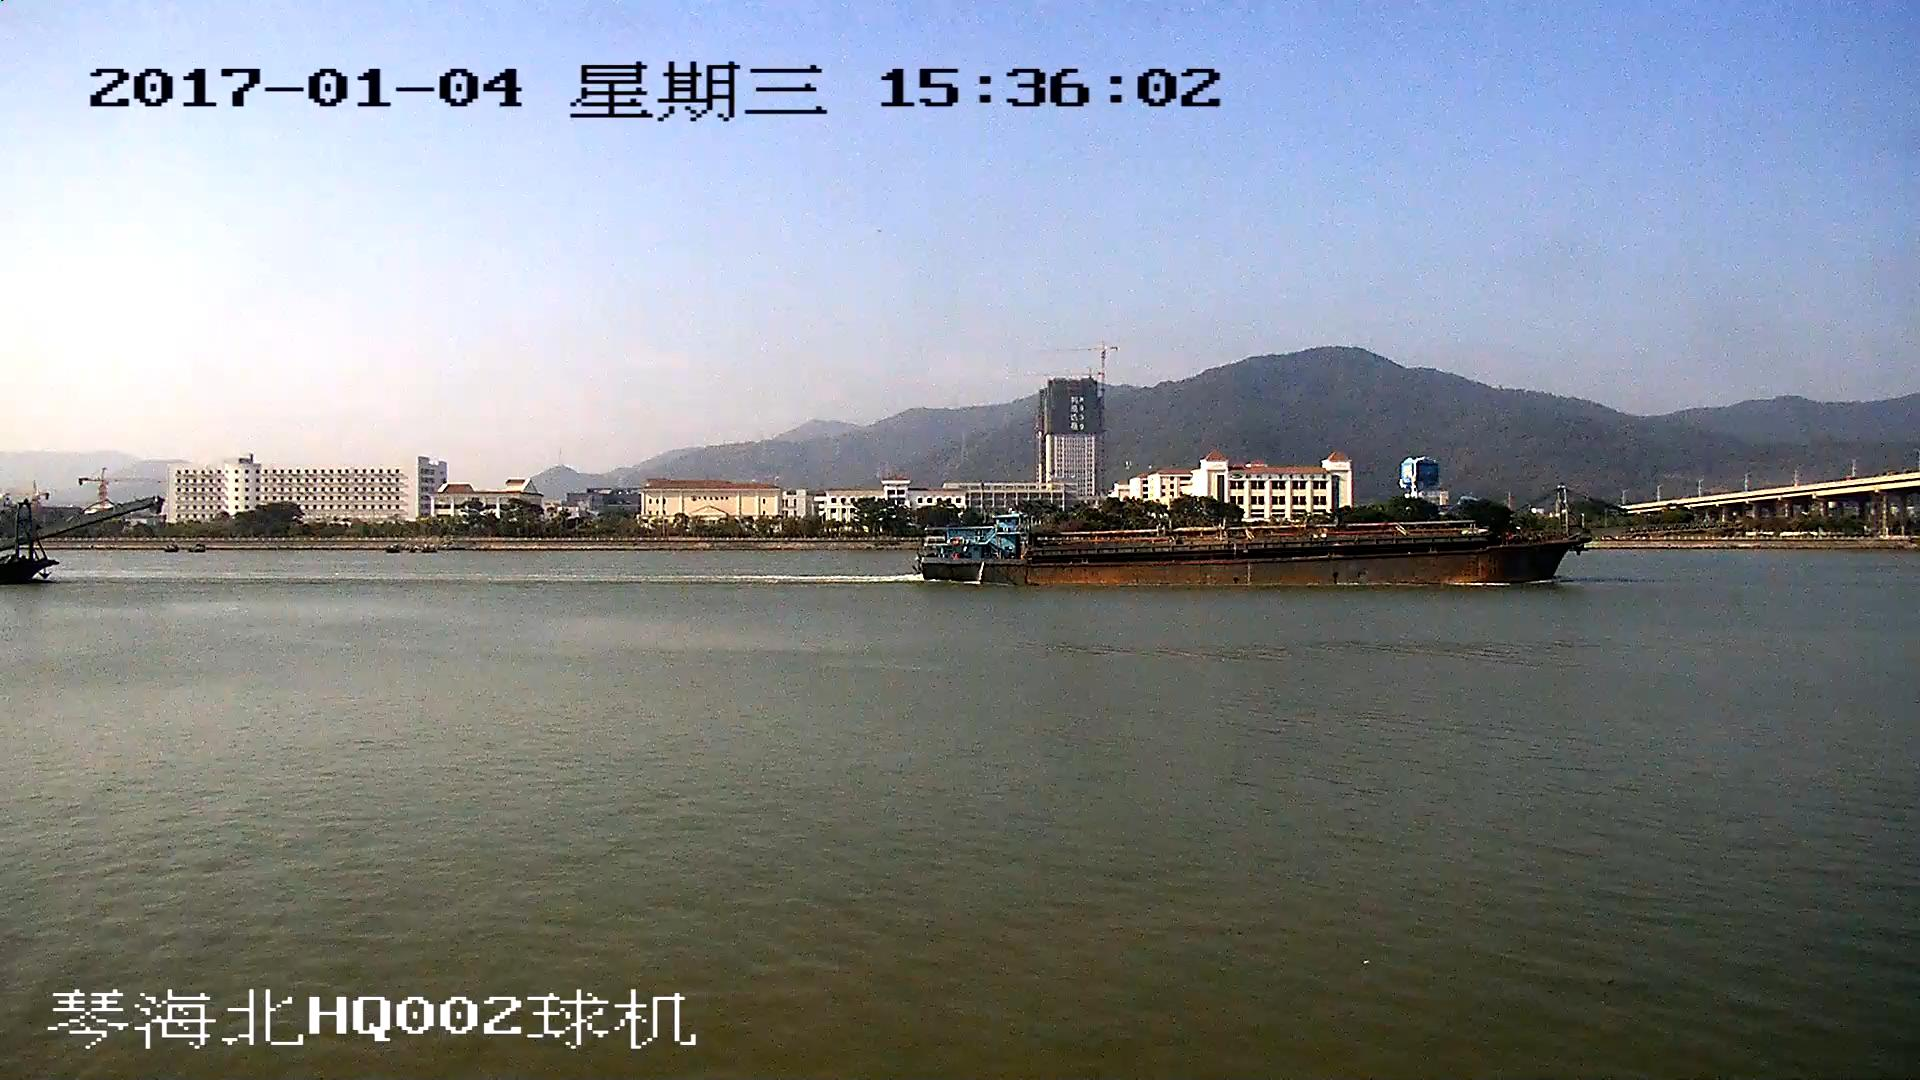bulk cargo carrier: (918, 516, 1581, 585)
